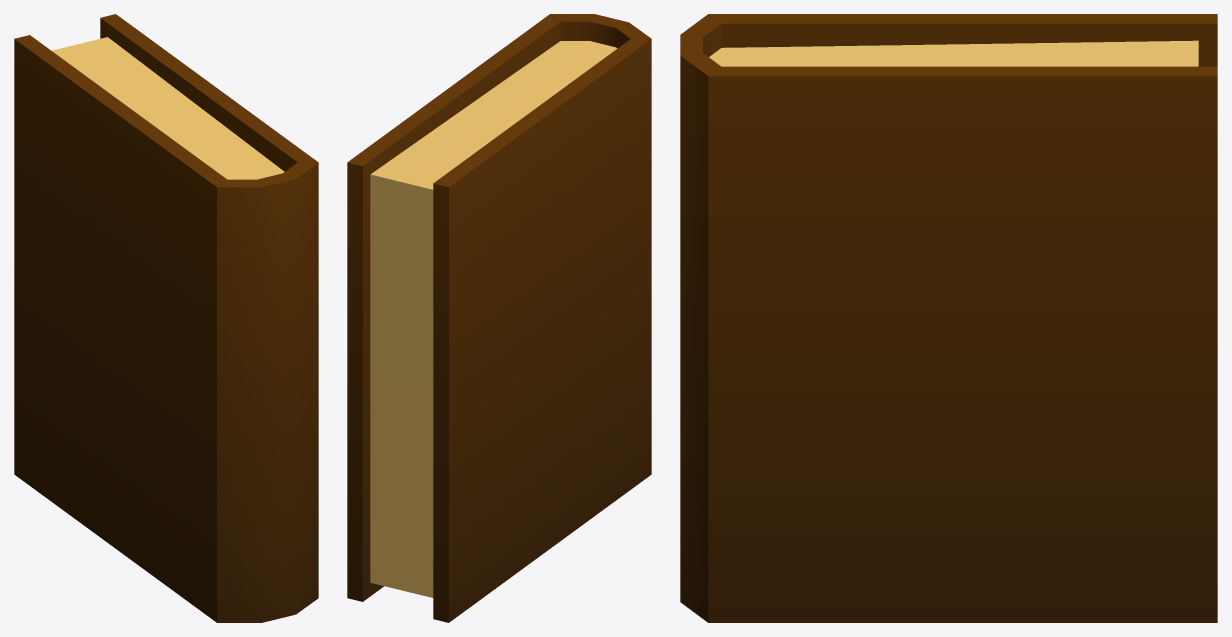
File: Book_01.glb
3 renders of one model, left to right at view 1: azimuth 30°, elevation 25°; view 2: azimuth 150°, elevation 25°; view 3: azimuth 270°, elevation 25°, orthographic. The views are drawn at different scales.
Parts seen in each view (by area): view 1: Book_01; view 2: Book_01; view 3: Book_01.
Part boxes in pixels (x1,y1,x2,y2): Book_01: [14, 14, 318, 622]; Book_01: [347, 14, 651, 622]; Book_01: [680, 14, 1217, 622].
Size of the model in its own units: 0.0762 by 0.3121 by 0.2779.
Materials: 1 (1 with a texture image).
